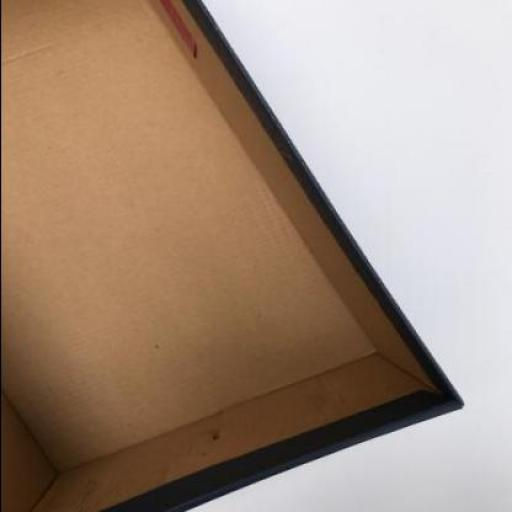cardboard: (1, 0, 464, 511)
